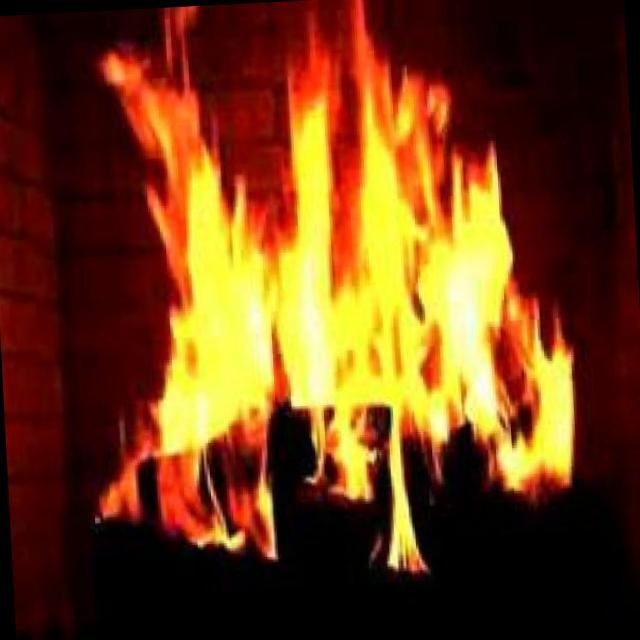Fire: (134, 74, 543, 517)
